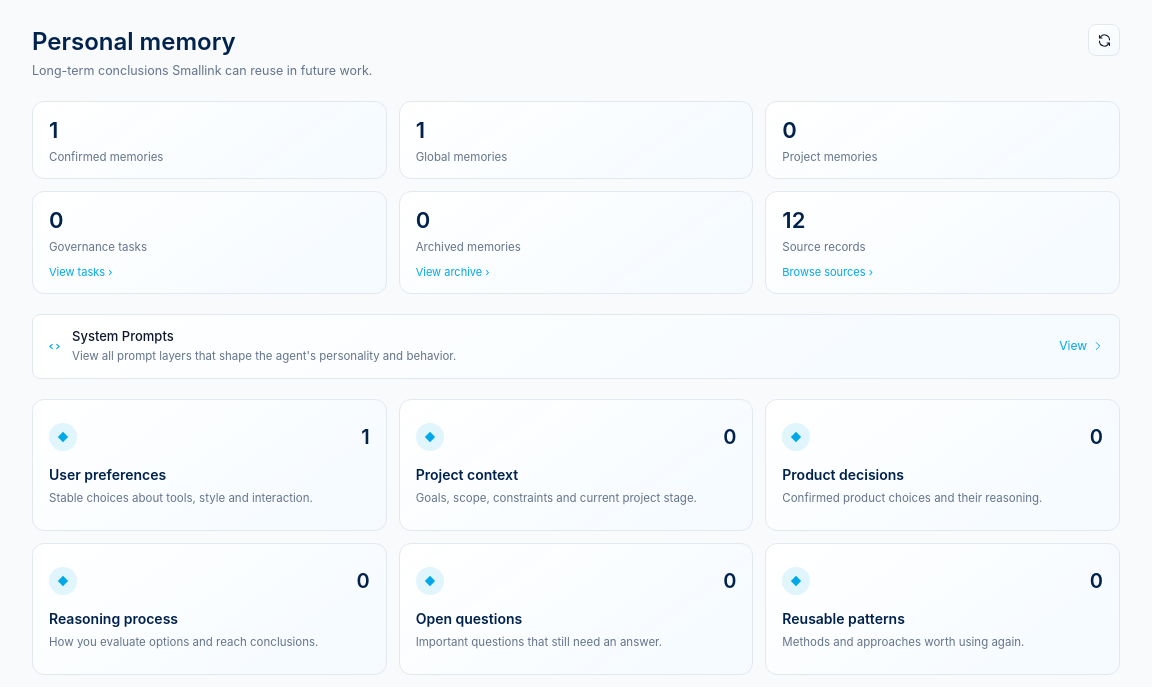
Scenario: MemoryView › shows the filtered empty state instead of the first-use empty state
Click the button "12 Source records Browse sources ›" at (824, 247), box 765,191 -> 1120,294
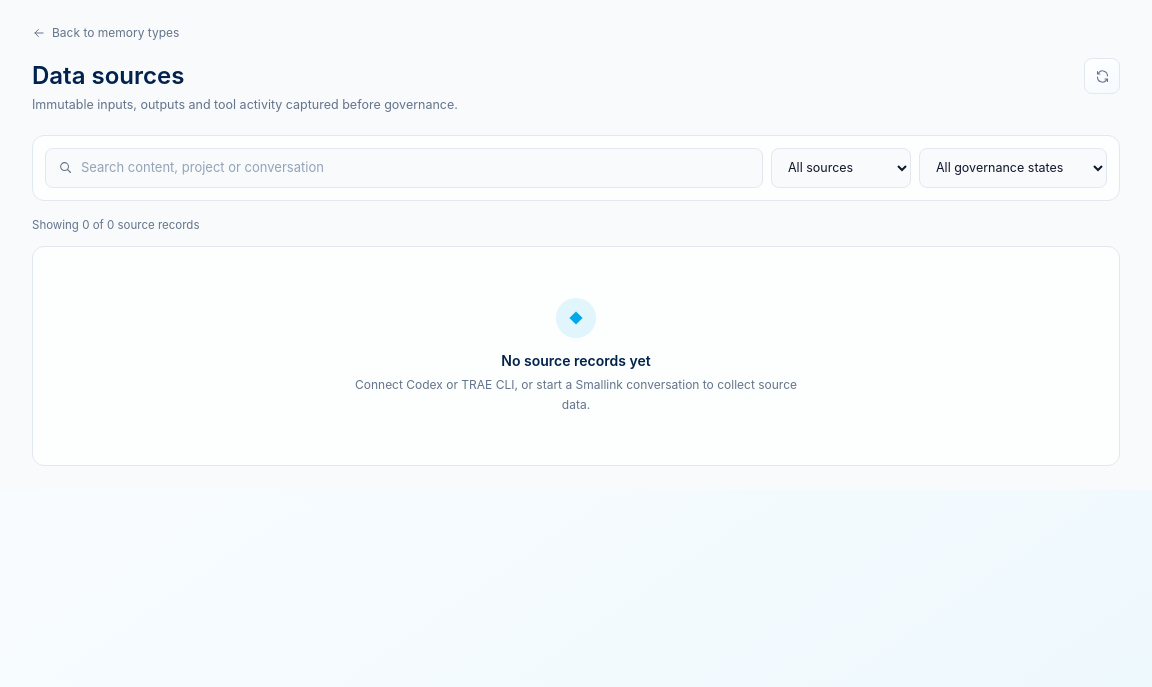
Expected: the heading "Data sources" is shown, 32,61 -> 184,90
Type "no matching record" into the field with placeholder "Search content, project or conversation" at (416, 168), box 81,158 -> 750,178
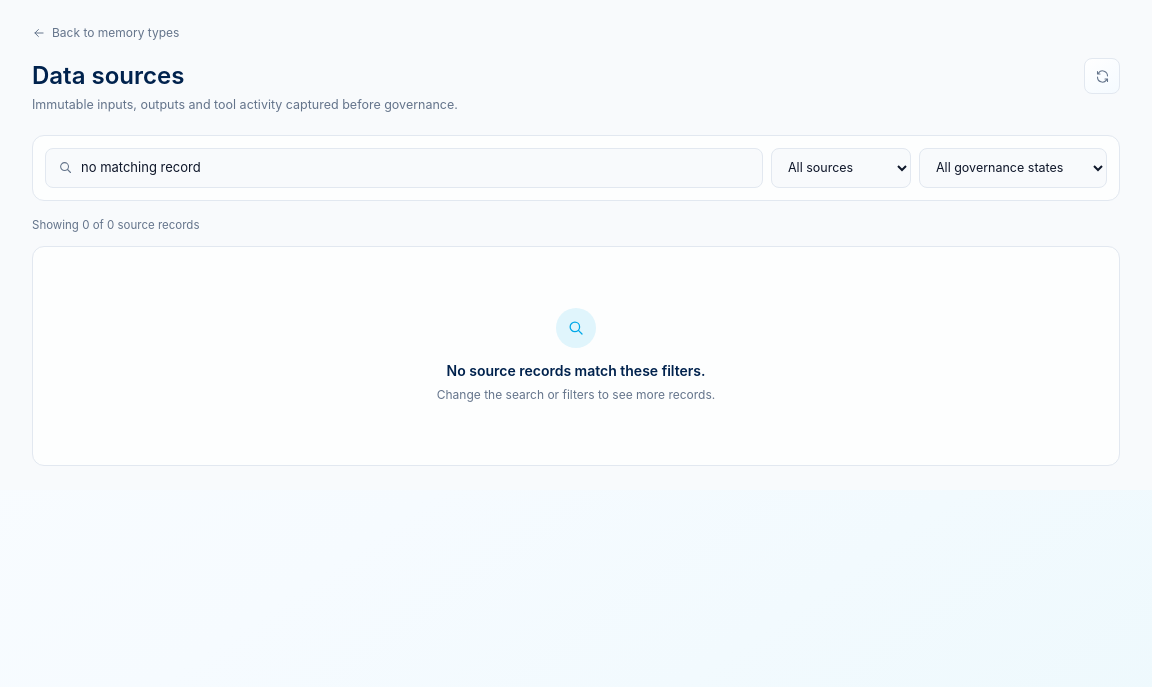
Expected: the text "No source records match these filters." is shown, 437,360 -> 715,381
Expected: the text "No source records yet" is gone
